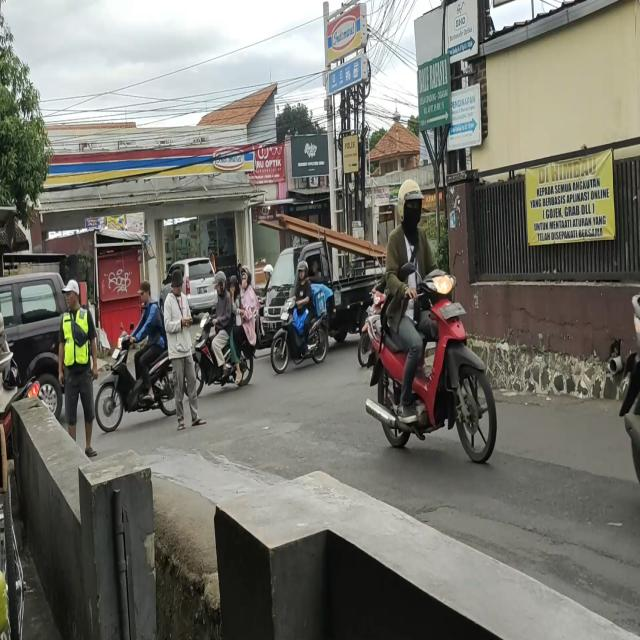helmet: (396, 180, 424, 223), (239, 268, 252, 289), (297, 262, 311, 281), (214, 272, 226, 292)
no-helmet: (139, 280, 153, 305), (230, 276, 238, 292)
